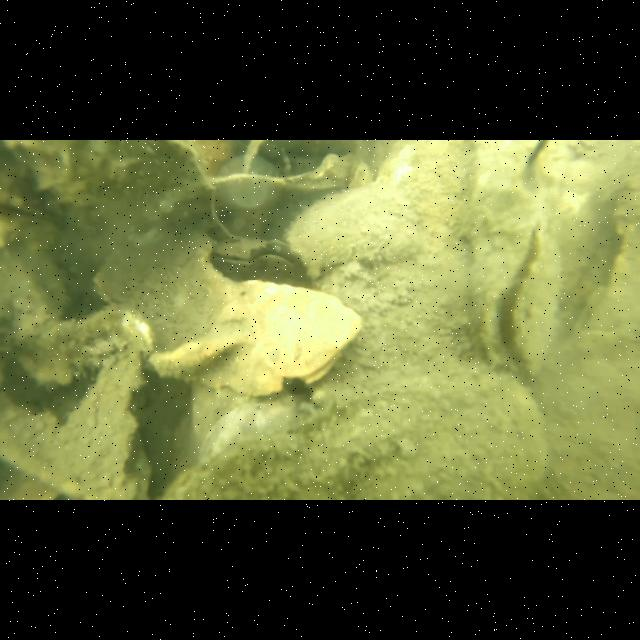Oyster-Closed: (161, 368, 547, 500), (151, 282, 363, 400), (286, 140, 474, 268)
Oyster-Open: (472, 215, 562, 382), (206, 234, 302, 272)
